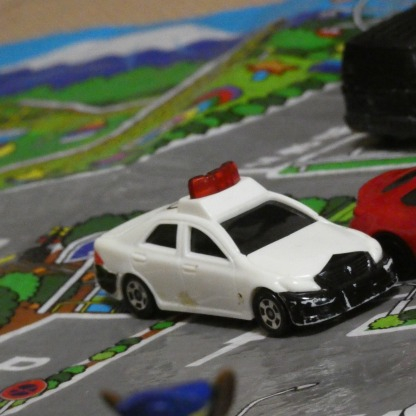car: (94, 162, 401, 332)
